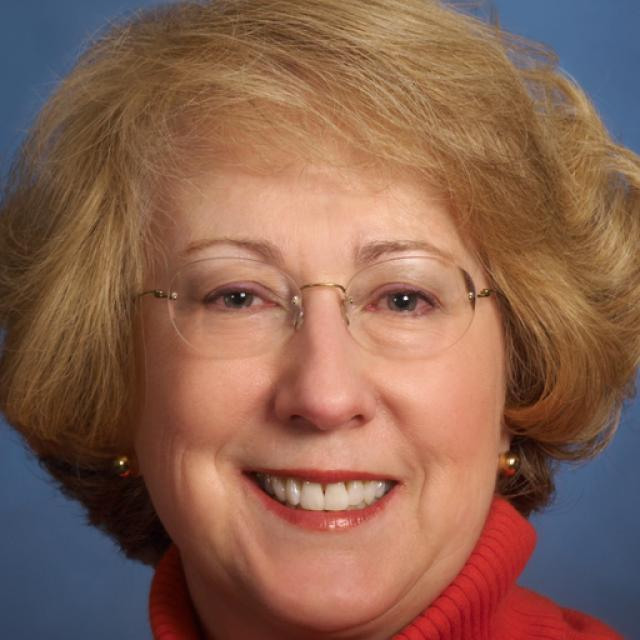happy: (125, 95, 508, 625)
